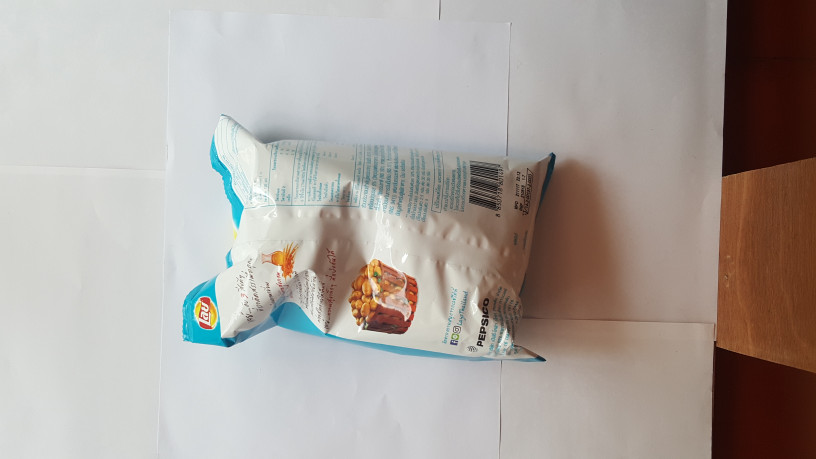lays-onion: (168, 110, 566, 385)
